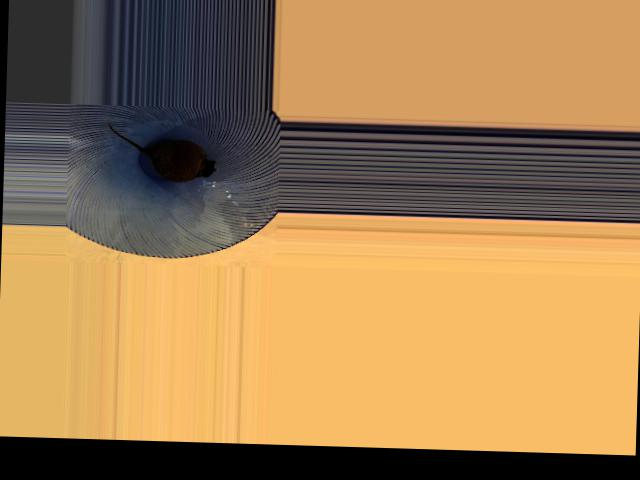beet: (107, 123, 217, 182)
